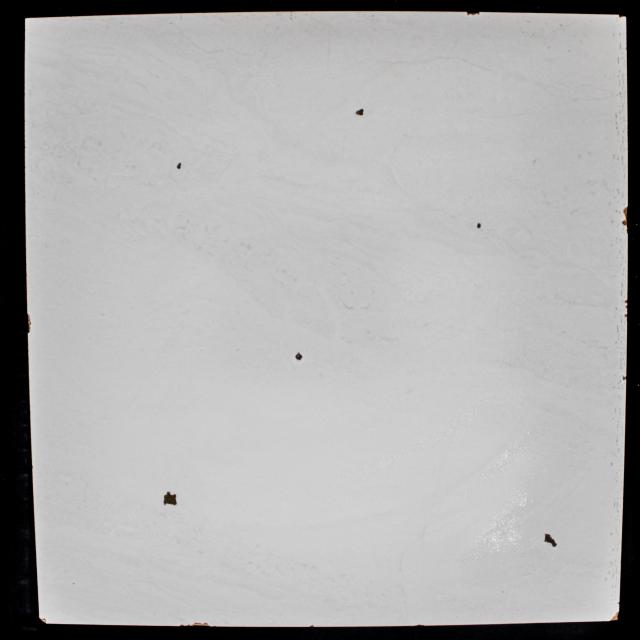edge-chipping: (622, 206, 628, 228), (191, 622, 211, 627), (610, 612, 620, 622), (27, 313, 31, 334), (466, 12, 480, 16), (39, 617, 46, 624), (618, 14, 626, 18), (624, 299, 628, 304), (622, 376, 626, 380), (626, 228, 628, 235), (179, 624, 185, 626), (624, 314, 628, 317), (185, 624, 190, 626)
hole: (543, 533, 557, 547), (163, 492, 177, 506), (355, 108, 364, 116), (295, 353, 303, 360), (176, 162, 182, 170), (476, 223, 482, 229)
